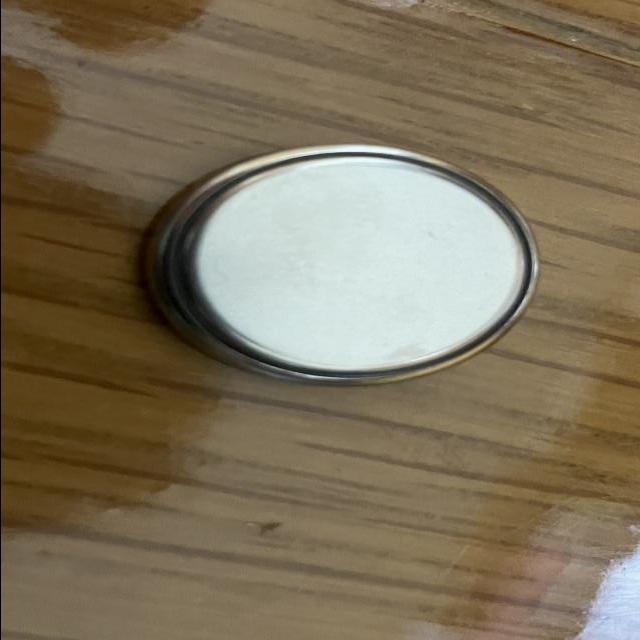COIN: (132, 142, 535, 388)
